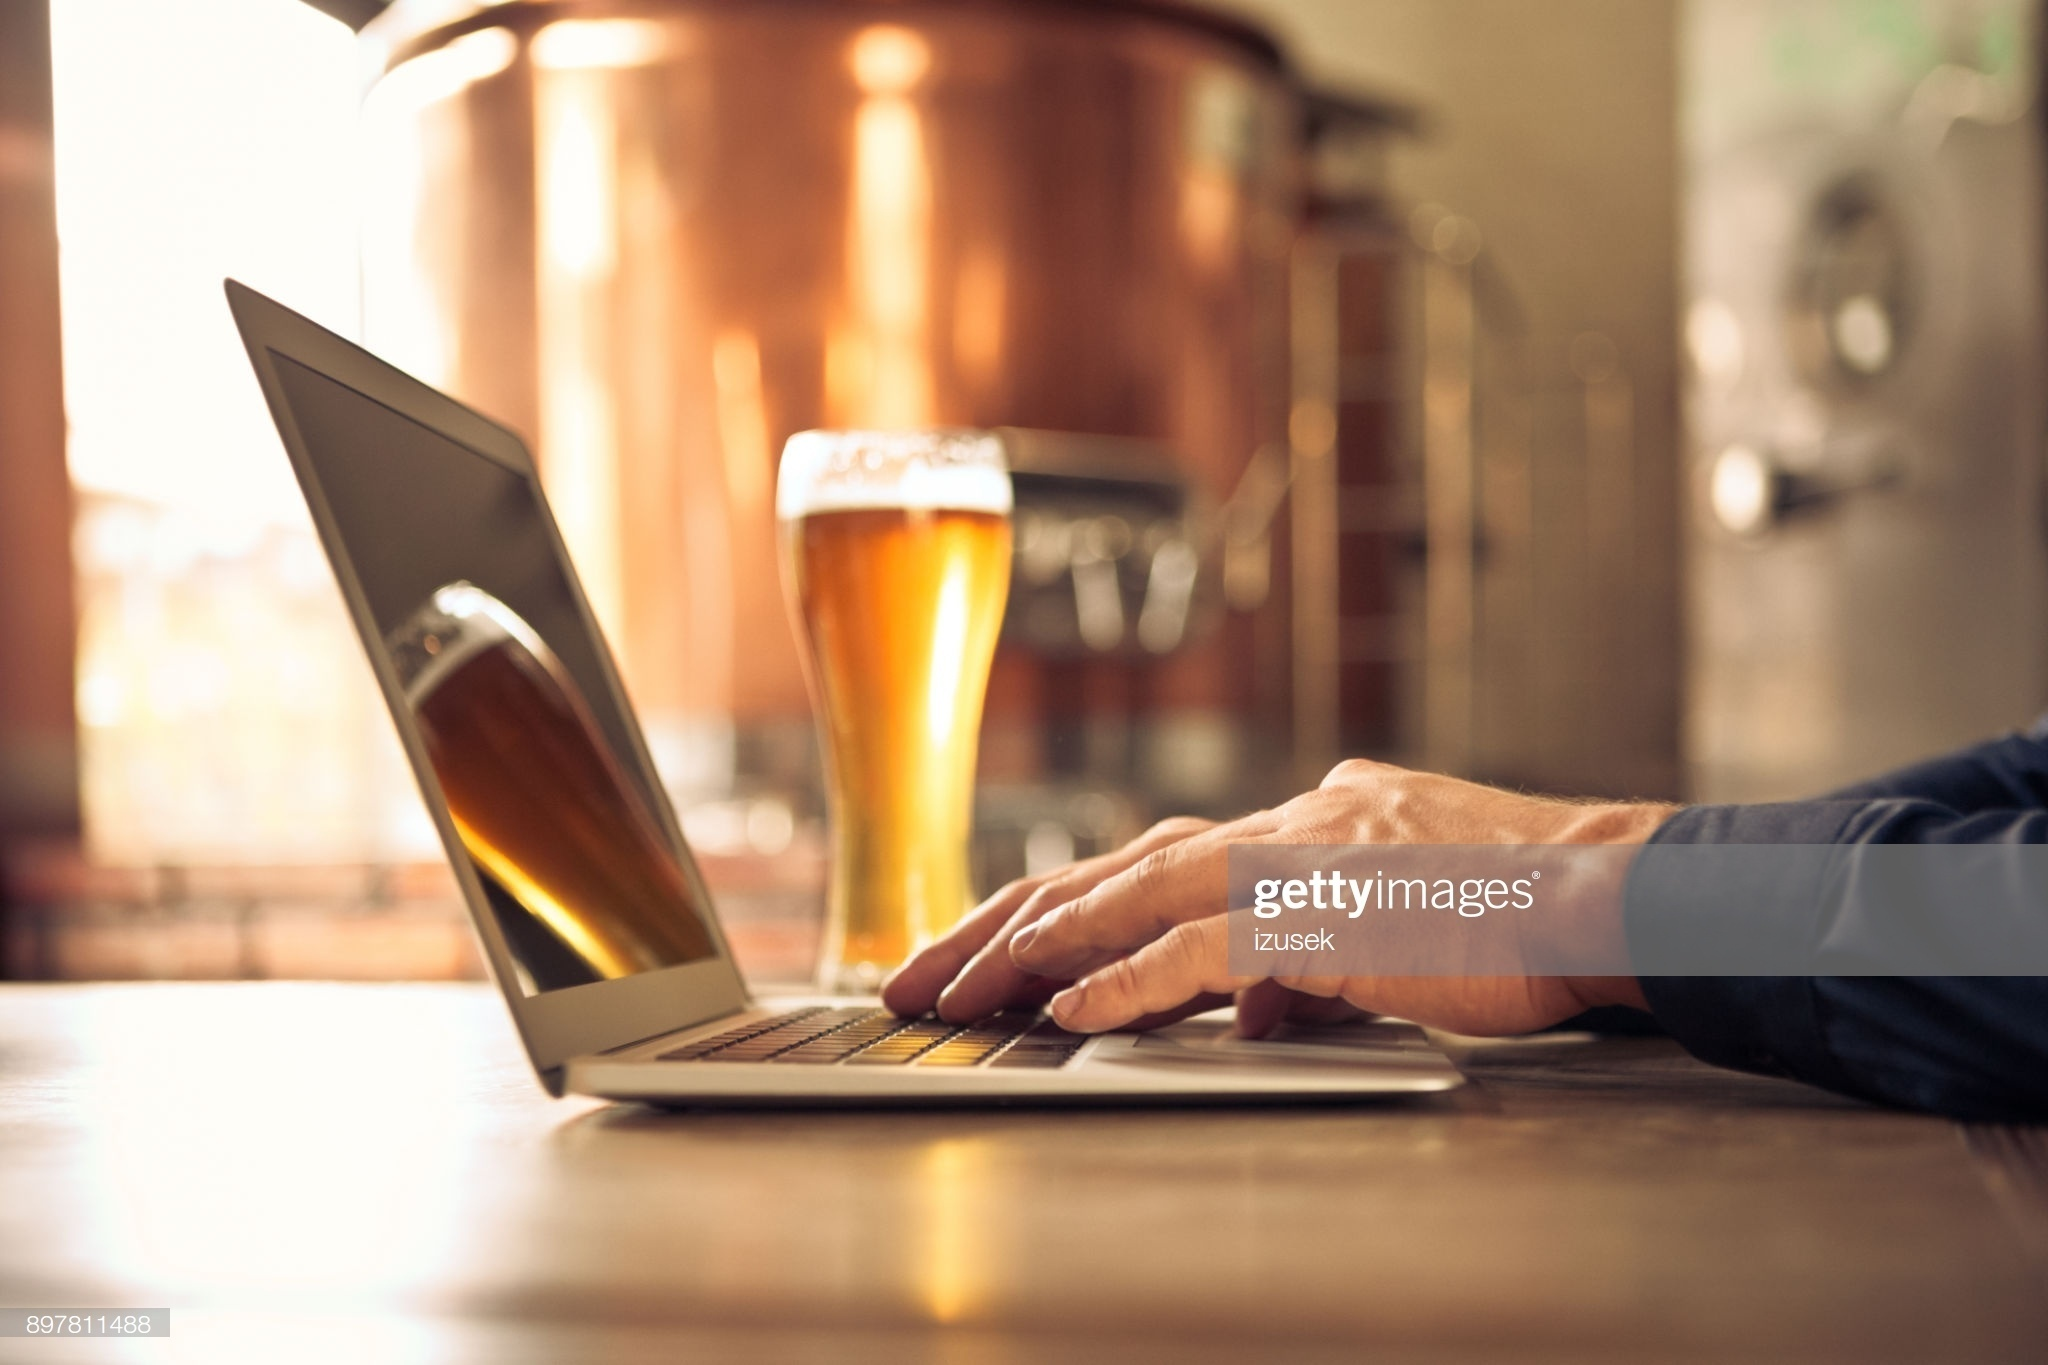whiskey: (802, 422, 1013, 970)
